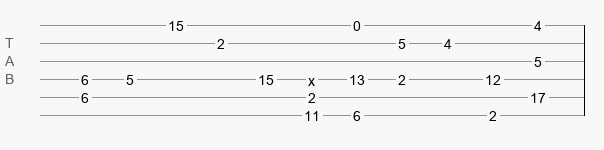0: (353, 18, 361, 28)
11: (304, 108, 320, 118)
12: (485, 72, 501, 82)
13: (349, 72, 365, 82)
15: (168, 18, 184, 28), (258, 72, 274, 82)
17: (530, 90, 546, 100)
2: (217, 36, 225, 46), (308, 90, 316, 100), (398, 72, 406, 82), (489, 108, 497, 118)
4: (444, 36, 452, 46), (534, 18, 542, 28)
5: (126, 72, 134, 82), (398, 36, 406, 46), (534, 54, 542, 64)
6: (81, 72, 89, 82), (81, 90, 89, 100), (353, 108, 361, 118)
x: (308, 73, 315, 81)
